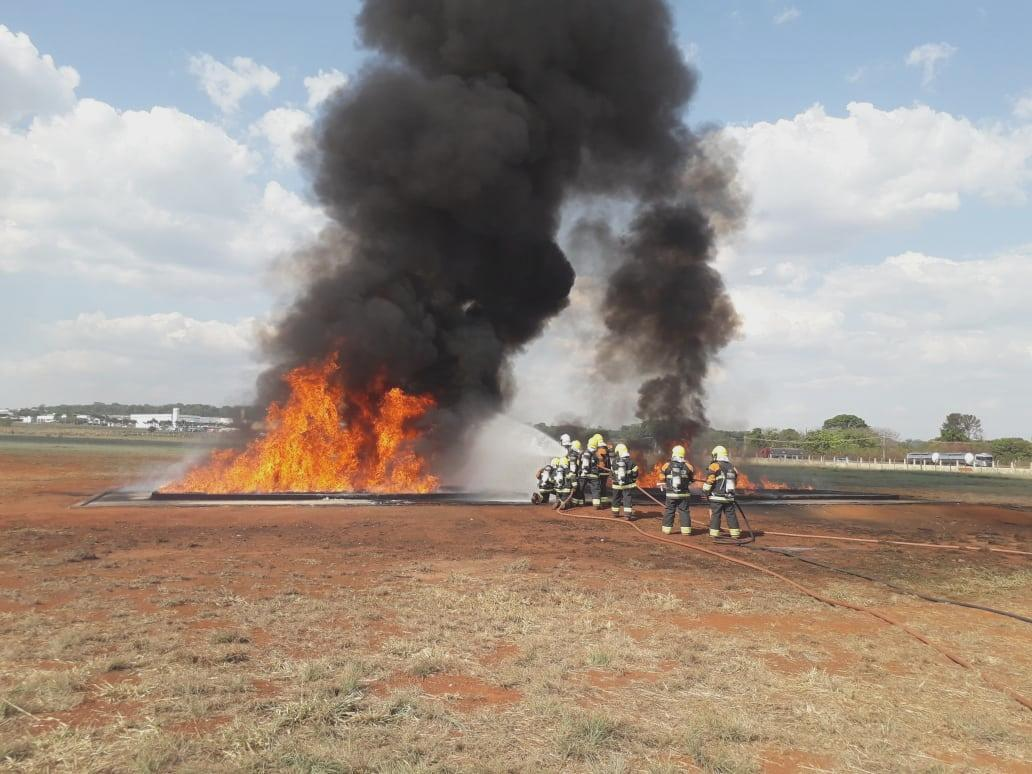Fire: (168, 351, 438, 493), (737, 467, 788, 492), (637, 458, 662, 488)
